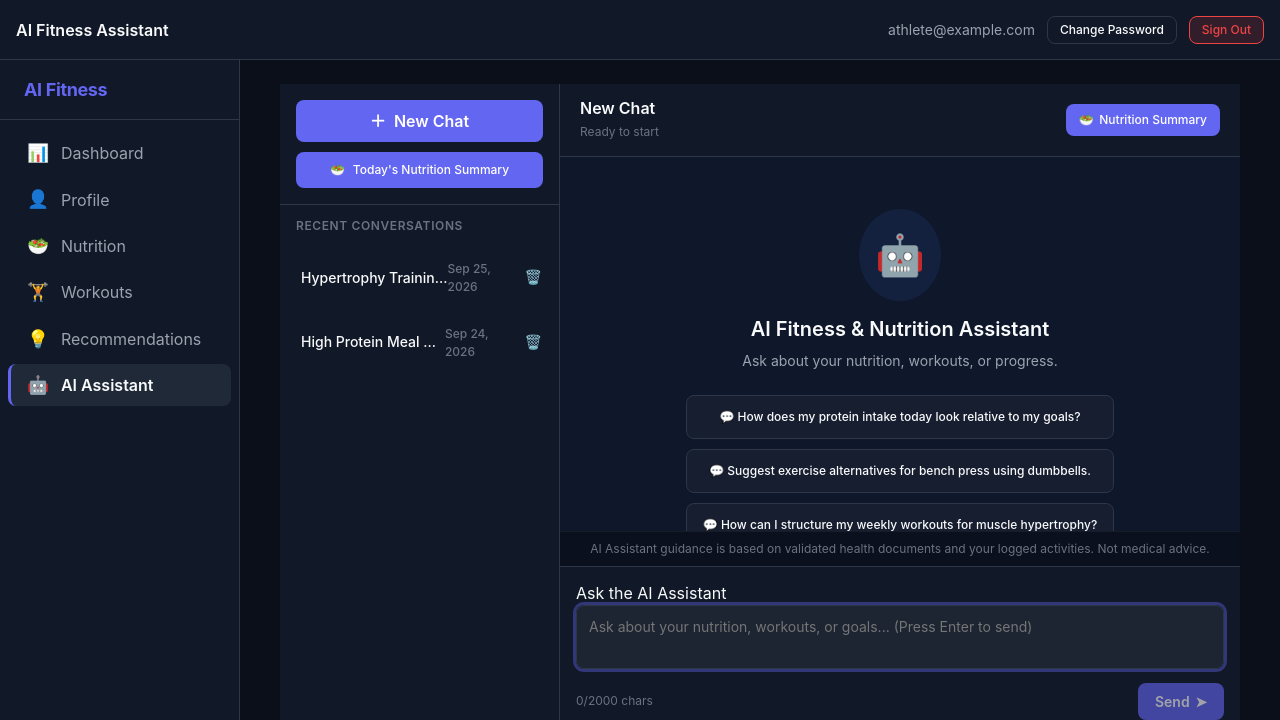
Test case: Phase 8H — AI Assistant & RAG Tests › 5. selecting a conversation loads its messages and updates header
The width and height of the screenshot is (1280, 720).
Expected: the heading "AI Fitness & Nutrition Assistant" is shown, top-left (751, 317), bottom-right (1049, 342)
Click the text "Hypertrophy Training Routine". click: (374, 277)
box: top-left (301, 267), bottom-right (448, 288)
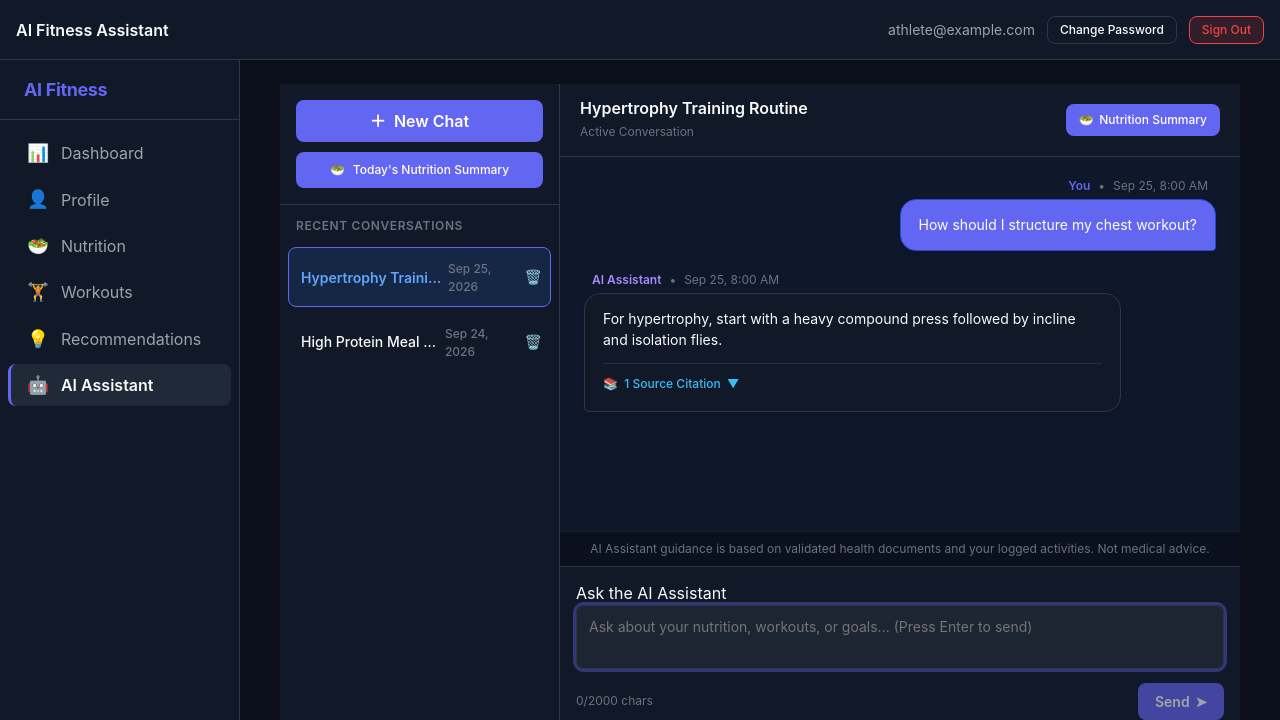
Now the text "How should I structure my chest workout?" is shown, box top-left (918, 214), bottom-right (1197, 236)
Now the text "For hypertrophy, start with a heavy compound press" is shown, box top-left (603, 310), bottom-right (1080, 348)
Now the heading "Hypertrophy Training Routine" is shown, box top-left (580, 98), bottom-right (808, 118)
